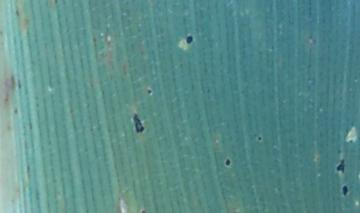tarspot: (131, 112, 144, 134), (335, 157, 346, 175), (340, 183, 350, 198), (184, 33, 194, 45), (90, 34, 98, 49), (13, 7, 21, 17), (16, 77, 22, 89), (224, 157, 231, 167), (145, 88, 153, 96), (12, 106, 19, 115), (256, 135, 262, 142), (138, 209, 147, 213), (52, 1, 58, 5)
